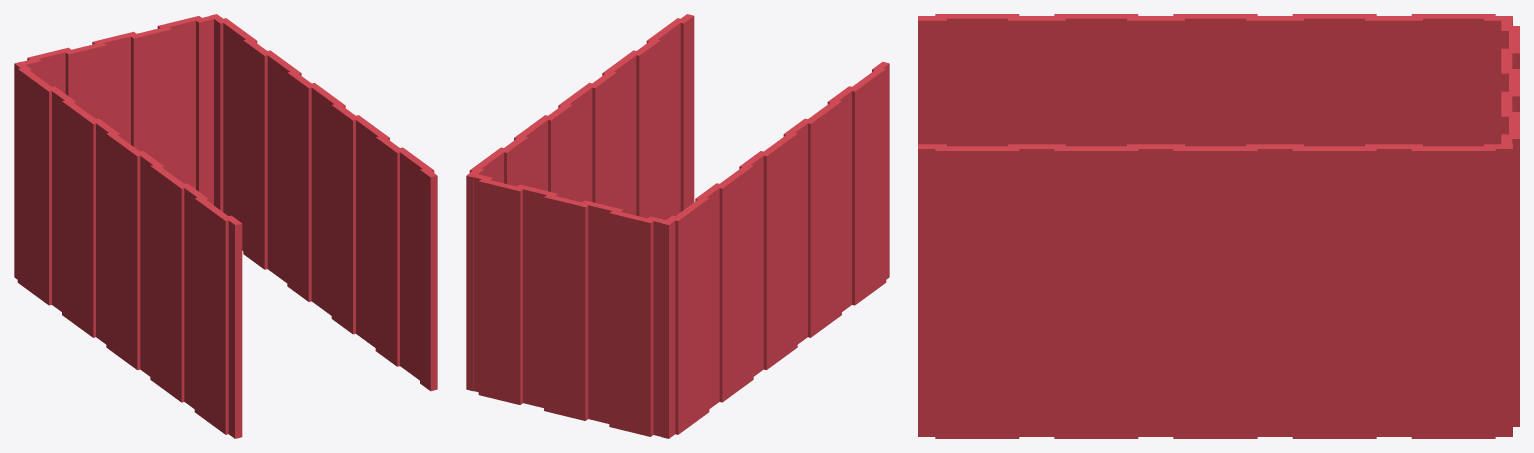
The model's file is truck_container_alternative.fbx.
3 views of the same model, side by side, from view 1: azimuth 30°, elevation 25°; view 2: azimuth 150°, elevation 25°; view 3: azimuth 270°, elevation 25° (orthographic). The views are drawn at different scales.
Parts seen in each view (by area): view 1: Plane.207, Plane.208; view 2: Plane.207, Plane.208; view 3: Plane.207, Plane.208.
Part boxes in pixels (<box>): Plane.207: <box>14,14,437,438</box>; Plane.208: <box>18,16,213,205</box>; Plane.207: <box>466,14,889,438</box>; Plane.208: <box>473,174,668,436</box>; Plane.207: <box>918,14,1512,438</box>; Plane.208: <box>1501,18,1519,426</box>.
Bounding box in the file's own units: 154 × 151 × 285.
